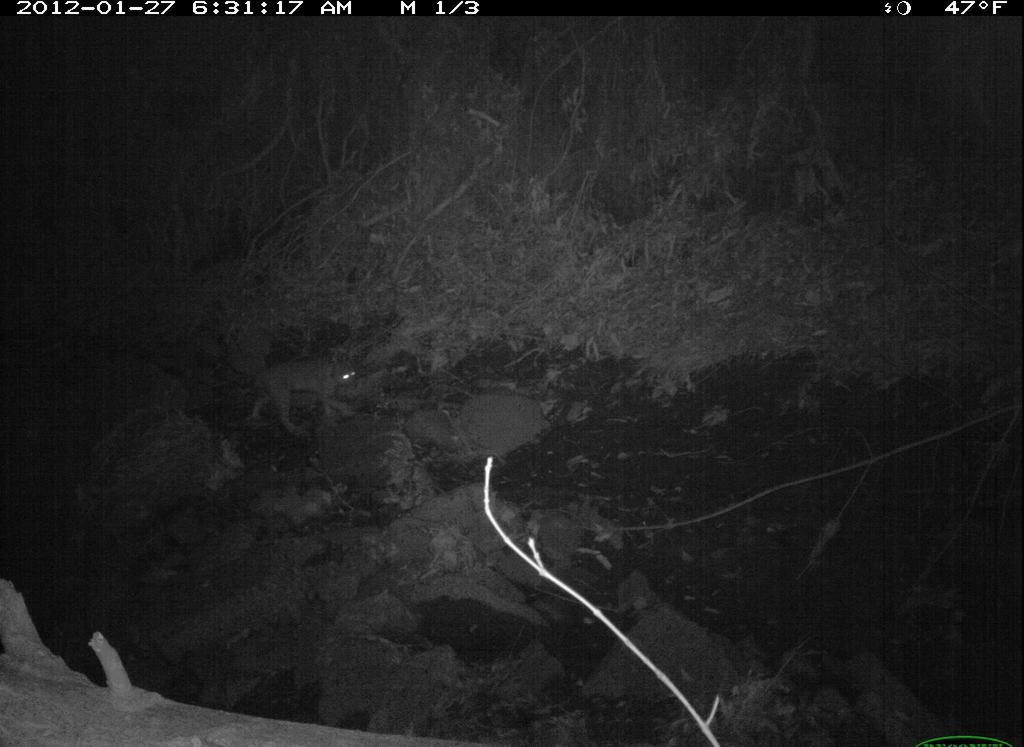bobcat: (246, 349, 370, 443)
